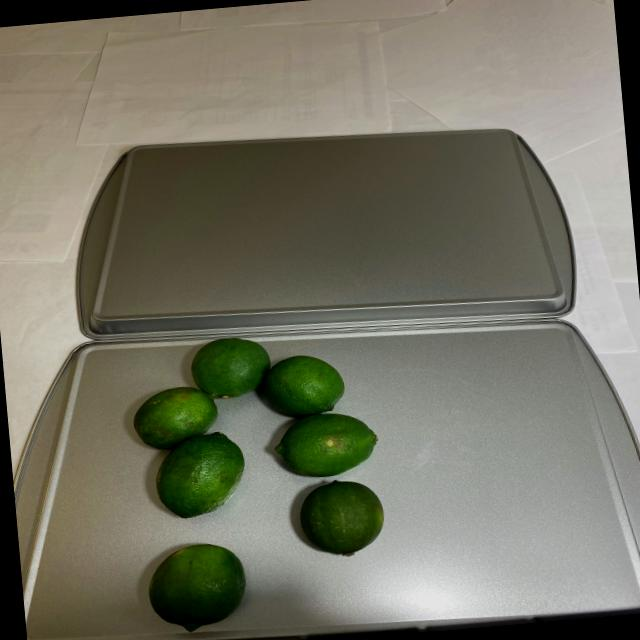lemon: (117, 331, 383, 638)
